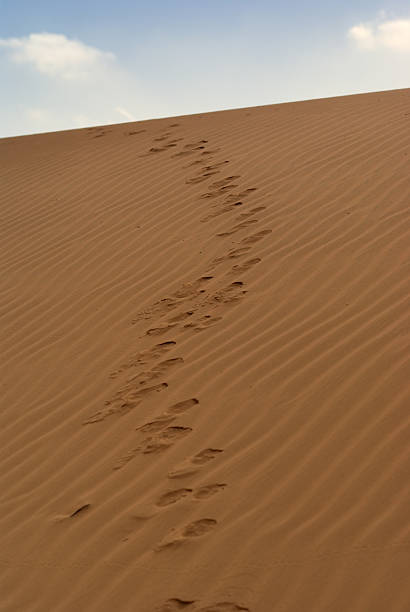human_footprint: (155, 518, 217, 551), (168, 447, 222, 478), (156, 483, 226, 506), (172, 390, 207, 419), (145, 427, 189, 448), (223, 286, 256, 314), (140, 368, 167, 402), (160, 350, 184, 380), (168, 306, 200, 327), (190, 270, 213, 293)
